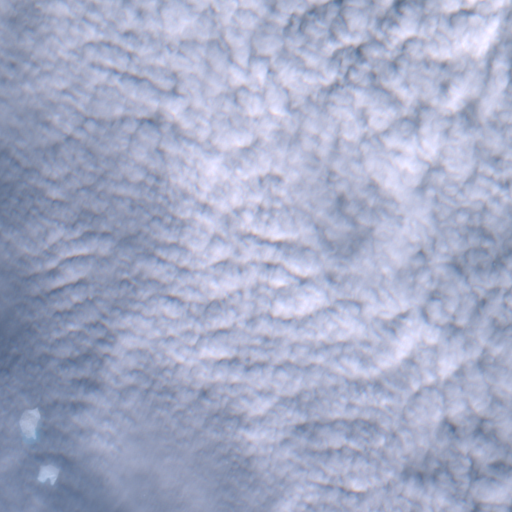Iceberg: (18, 407, 40, 439), (37, 465, 59, 484)
